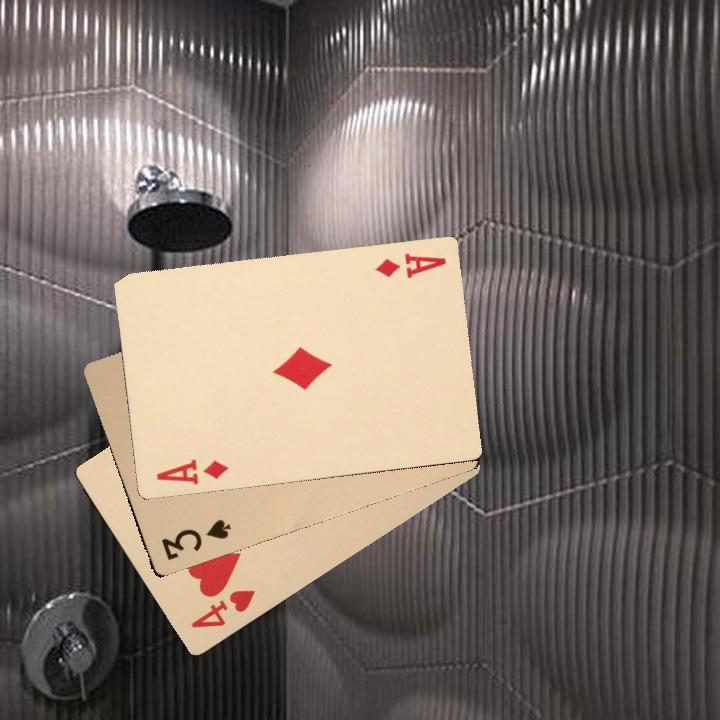3s: (157, 515, 234, 563)
4h: (186, 585, 258, 631)
Ad: (370, 249, 448, 281), (152, 455, 229, 487)
